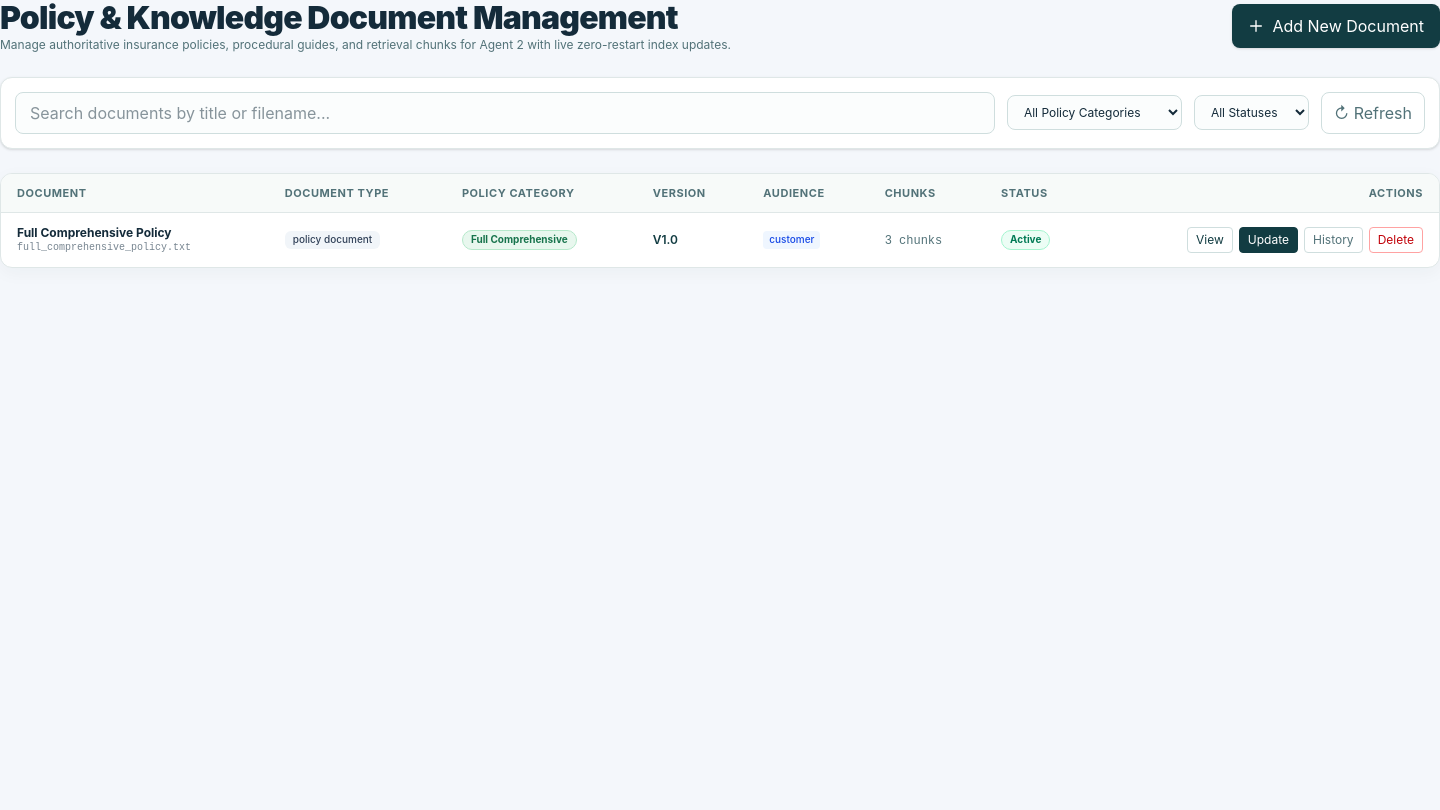
Test: PolicyKnowledgeManagement delete policy › requires confirmation and allows cancellation
Check: the text "Full Comprehensive Policy" is shown, box [17,226,172,240]
Click the button "Delete" at (1396, 240), box [1369,227,1423,253]
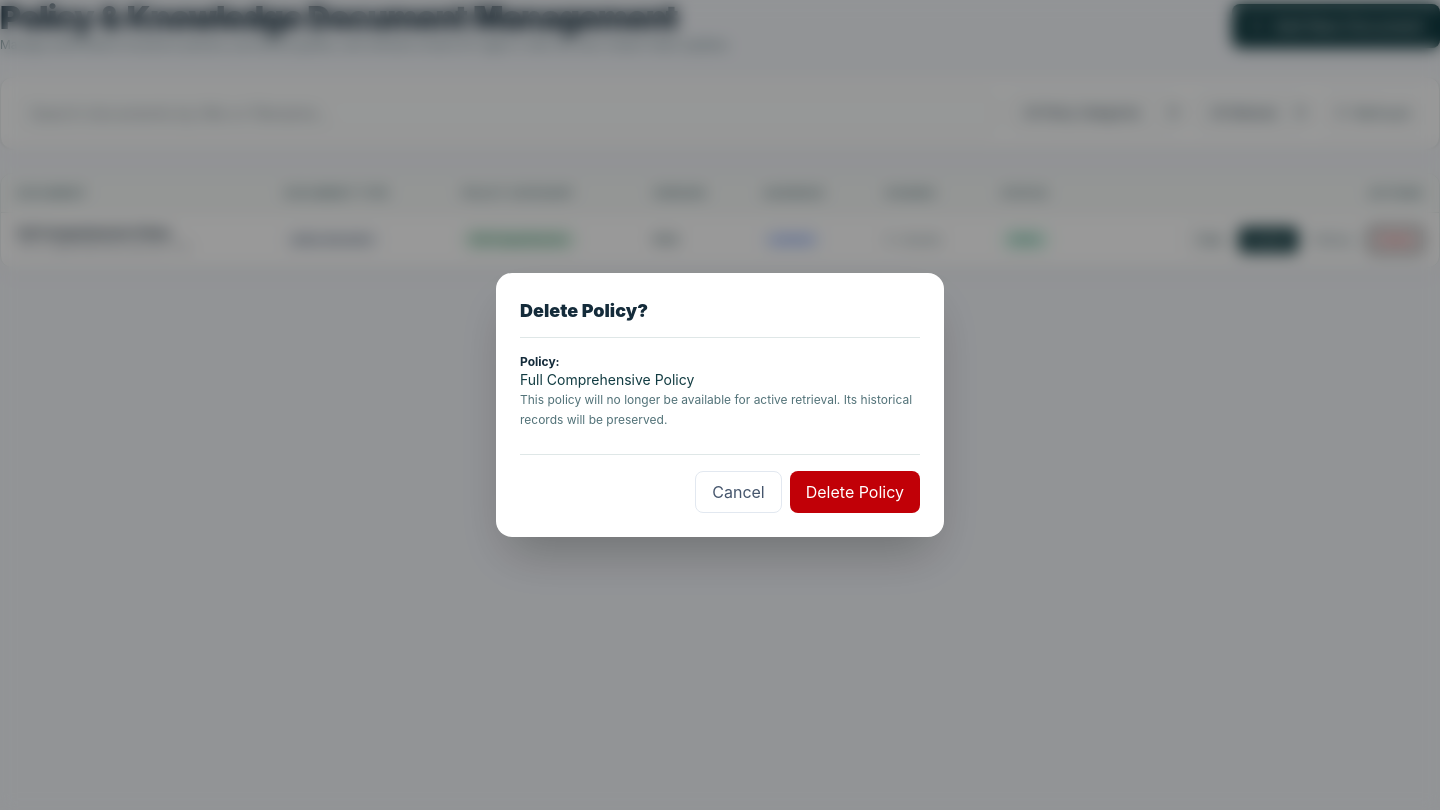
Check: the dialog "Delete Policy?" is shown, box [496,273,944,537]
Check: the text "historical records will be preserved" is shown, box [520,392,912,427]
Click the button "Cancel" at (739, 492), box [695,471,782,513]
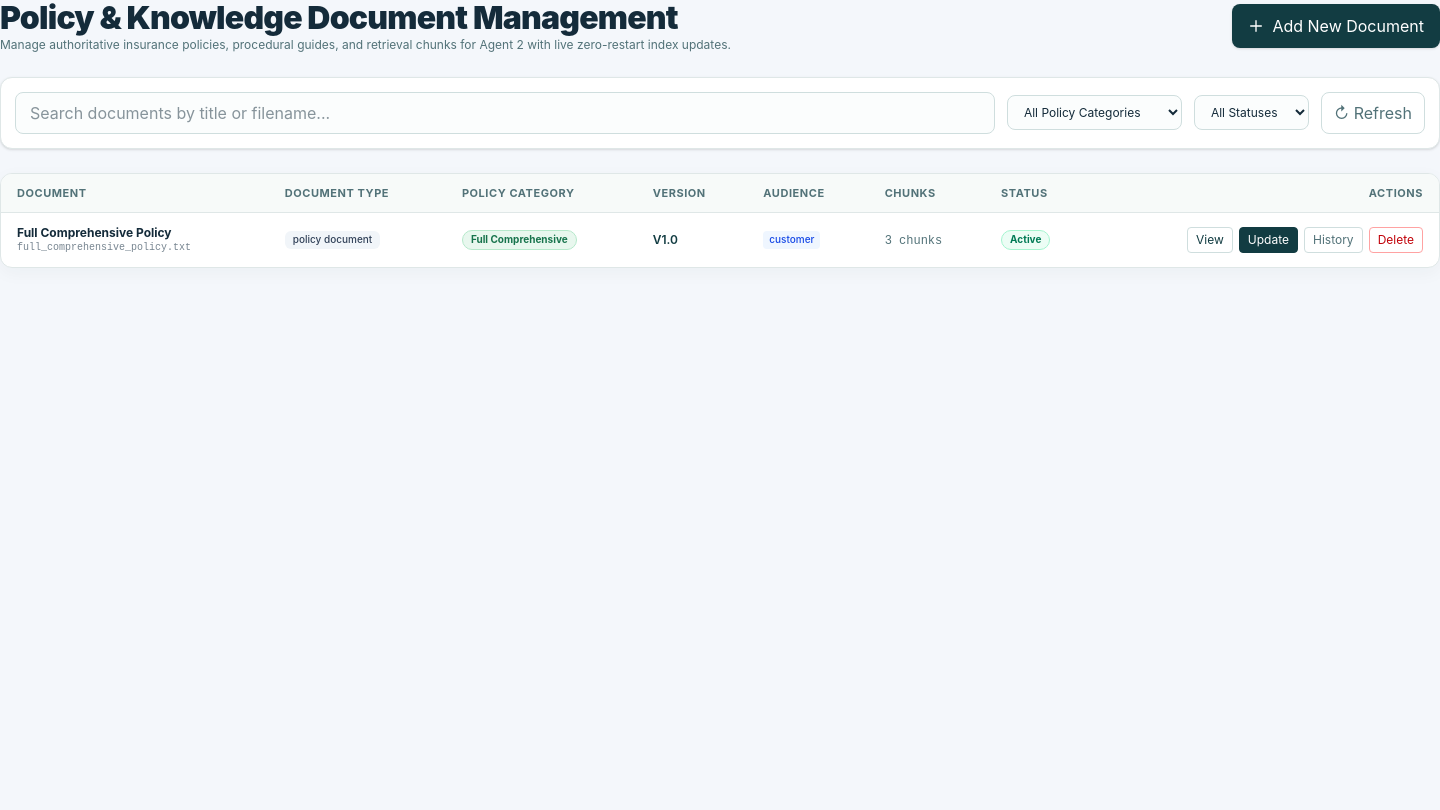
Check: the heading "Delete Policy?" is gone
